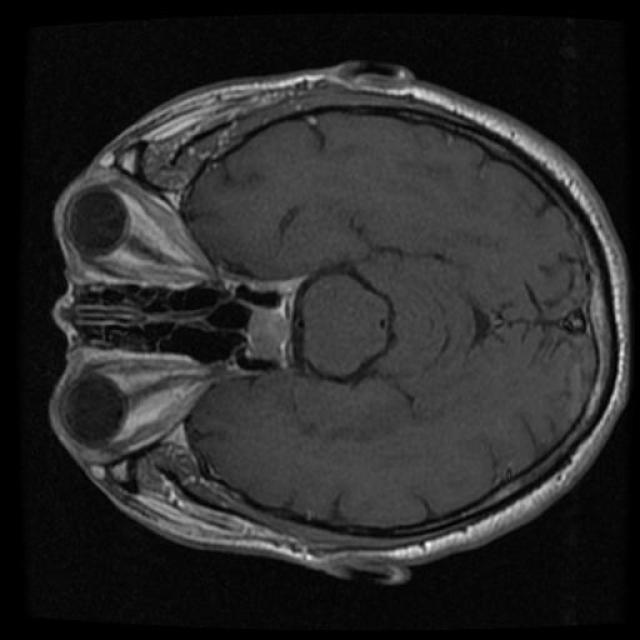Pituitary: (226, 276, 307, 369)
